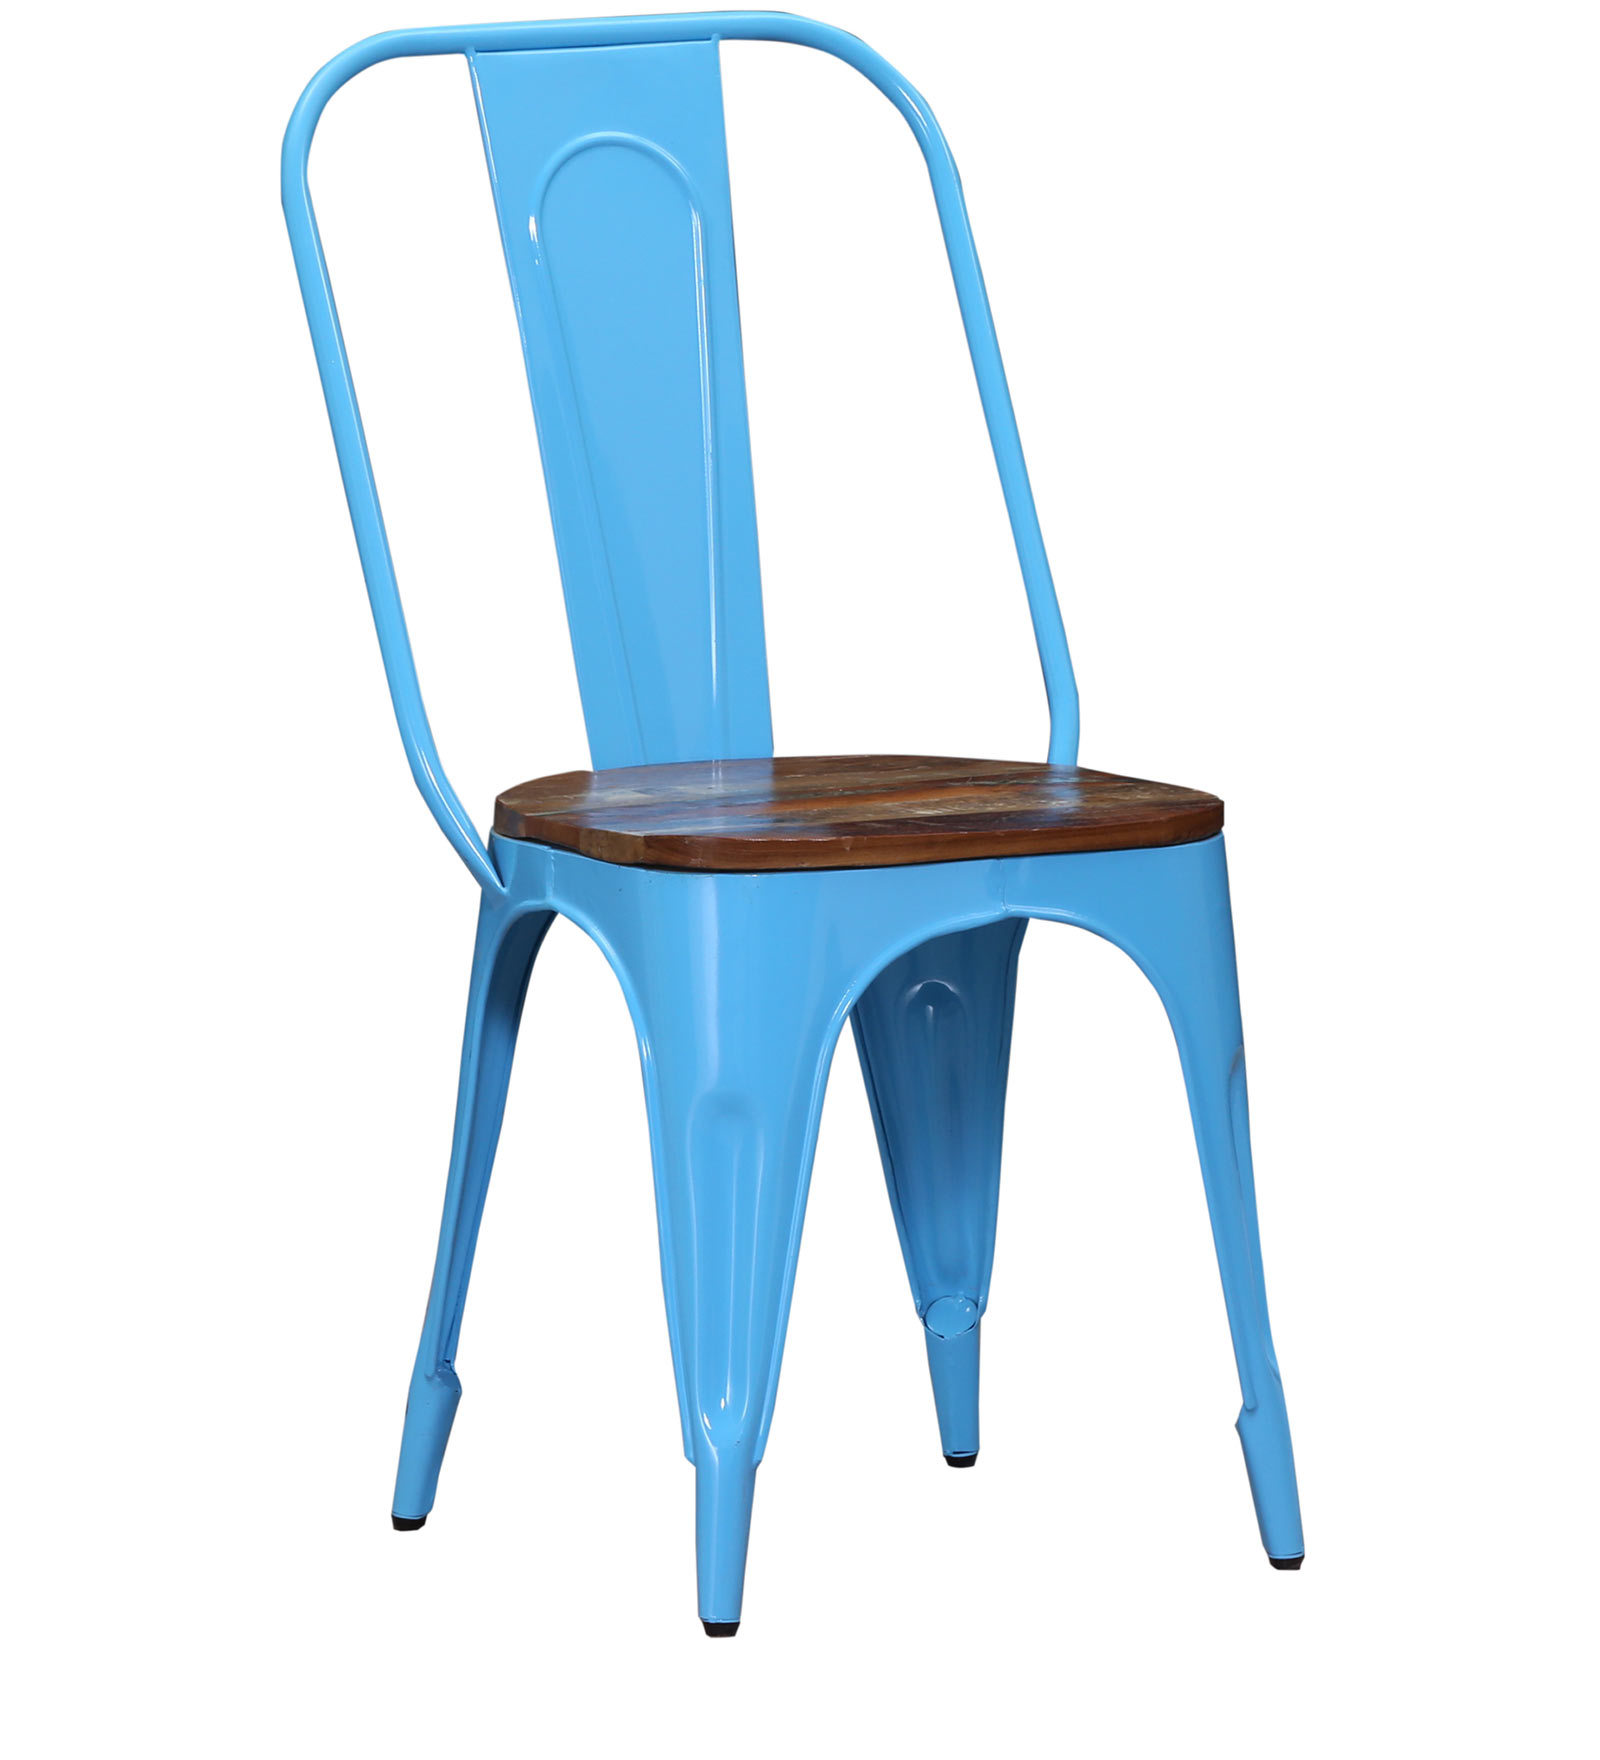Kumtor Metal Chair in Sky Blue Color with Wooden Seat by Bohemiana: (228, 9, 1415, 1671)
